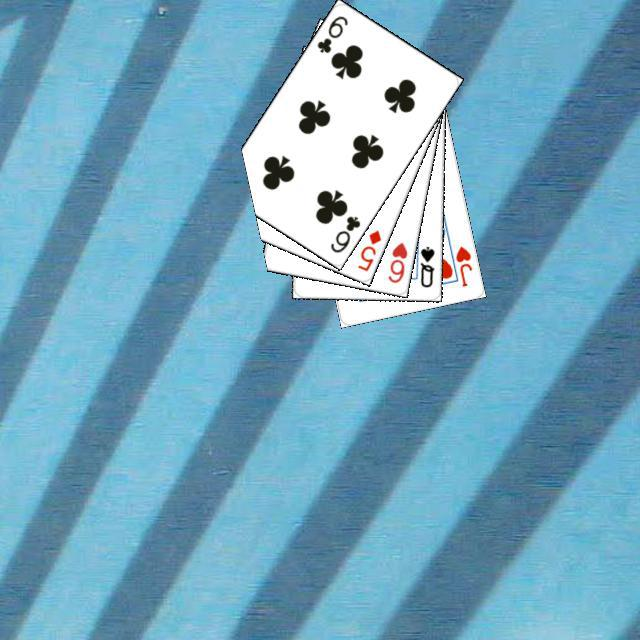5d: (352, 225, 383, 273)
6c: (312, 11, 350, 55), (325, 211, 362, 255)
6h: (383, 237, 409, 285)
Jh: (451, 241, 474, 288)
Qs: (415, 242, 436, 289)
